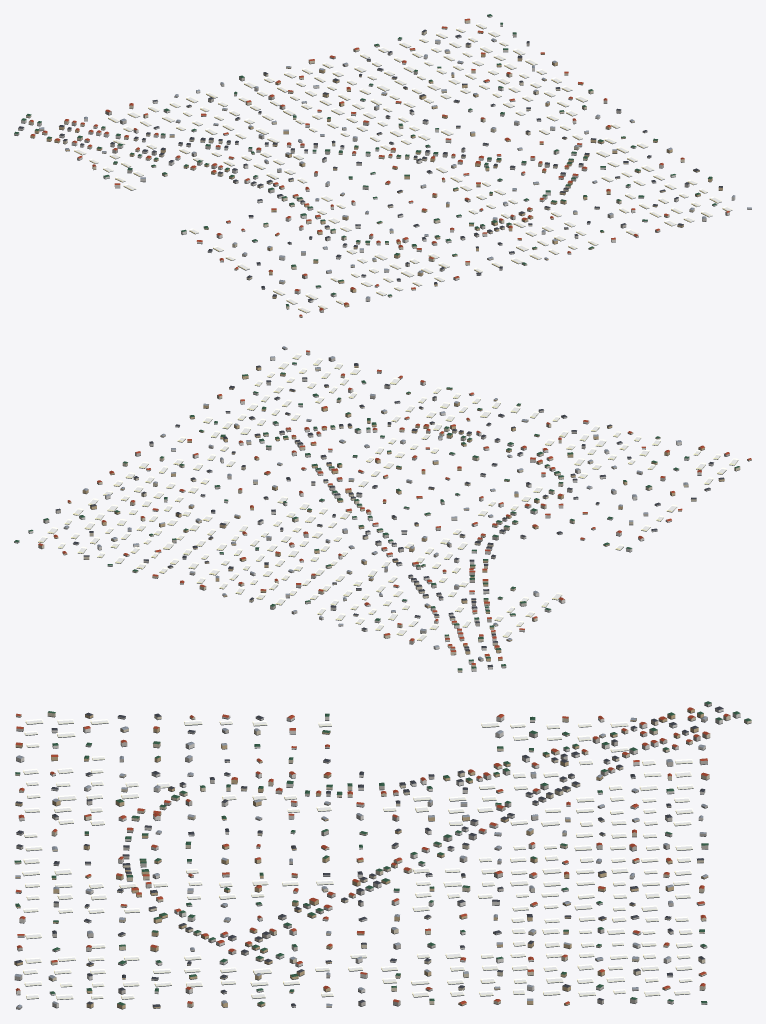
File: buildings_T_E07_S04.glb
3 views of the same model, one above another, from view 1: azimuth 30°, elevation 25°; view 2: azimuth 150°, elevation 25°; view 3: azimuth 270°, elevation 25° (orthographic). The views are drawn at different scales.
Visible parts, largest first — view 1: T_E07_S04_roofs_agri_greenhouse_arch, T_E07_S04_slope_seating_foundations, T_E07_S04_walls_wall_modern_warm_white, T_E07_S04_walls_wall_dalat_cream_stucco, T_E07_S04_walls_wall_french_ochre_villa, T_E07_S04_walls_wall_pastel_sand_gray, T_E07_S04_roofs_roof_terracotta_gable, T_E07_S04_roofs_roof_slate_French_villa_hip, T_E07_S04_roofs_roof_pine_green_hip, T_E07_S04_roofs_roof_zinc_silver_gable; view 2: T_E07_S04_slope_seating_foundations, T_E07_S04_roofs_agri_greenhouse_arch, T_E07_S04_walls_wall_modern_warm_white, T_E07_S04_walls_wall_dalat_cream_stucco, T_E07_S04_walls_wall_french_ochre_villa, T_E07_S04_roofs_roof_terracotta_gable, T_E07_S04_walls_wall_pastel_sand_gray, T_E07_S04_roofs_roof_slate_French_villa_hip, T_E07_S04_roofs_roof_pine_green_hip, T_E07_S04_roofs_roof_zinc_silver_gable; view 3: T_E07_S04_roofs_agri_greenhouse_arch, T_E07_S04_slope_seating_foundations, T_E07_S04_walls_wall_modern_warm_white, T_E07_S04_walls_wall_dalat_cream_stucco, T_E07_S04_walls_wall_french_ochre_villa, T_E07_S04_walls_wall_pastel_sand_gray, T_E07_S04_roofs_roof_terracotta_gable, T_E07_S04_roofs_roof_slate_French_villa_hip, T_E07_S04_roofs_roof_pine_green_hip, T_E07_S04_roofs_roof_zinc_silver_gable.
Boxes of the visible parts, <box> form: T_E07_S04_roofs_agri_greenhouse_arch: <box>74,23,732,312</box>; T_E07_S04_slope_seating_foundations: <box>14,16,751,317</box>; T_E07_S04_walls_wall_modern_warm_white: <box>18,15,735,302</box>; T_E07_S04_walls_wall_dalat_cream_stucco: <box>26,19,694,317</box>; T_E07_S04_walls_wall_french_ochre_villa: <box>30,31,722,306</box>; T_E07_S04_walls_wall_pastel_sand_gray: <box>14,34,751,312</box>; T_E07_S04_roofs_roof_terracotta_gable: <box>29,18,729,316</box>; T_E07_S04_roofs_roof_slate_French_villa_hip: <box>18,29,722,300</box>; T_E07_S04_roofs_roof_pine_green_hip: <box>14,14,716,306</box>; T_E07_S04_roofs_roof_zinc_silver_gable: <box>39,38,751,298</box>; T_E07_S04_slope_seating_foundations: <box>14,348,751,672</box>; T_E07_S04_roofs_agri_greenhouse_arch: <box>38,353,738,640</box>; T_E07_S04_walls_wall_modern_warm_white: <box>14,351,713,671</box>; T_E07_S04_walls_wall_dalat_cream_stucco: <box>38,367,751,672</box>; T_E07_S04_walls_wall_french_ochre_villa: <box>53,365,724,661</box>; T_E07_S04_roofs_roof_terracotta_gable: <box>38,350,751,664</box>; T_E07_S04_walls_wall_pastel_sand_gray: <box>43,347,729,667</box>; T_E07_S04_roofs_roof_slate_French_villa_hip: <box>55,363,724,667</box>; T_E07_S04_roofs_roof_pine_green_hip: <box>14,362,739,670</box>; T_E07_S04_roofs_roof_zinc_silver_gable: <box>64,346,688,659</box>; T_E07_S04_roofs_agri_greenhouse_arch: <box>22,718,693,999</box>; T_E07_S04_slope_seating_foundations: <box>14,705,751,1009</box>; T_E07_S04_walls_wall_modern_warm_white: <box>16,708,740,1007</box>; T_E07_S04_walls_wall_dalat_cream_stucco: <box>14,712,751,1007</box>; T_E07_S04_walls_wall_french_ochre_villa: <box>14,709,708,1008</box>; T_E07_S04_walls_wall_pastel_sand_gray: <box>14,703,711,1009</box>; T_E07_S04_roofs_roof_terracotta_gable: <box>15,707,730,1004</box>; T_E07_S04_roofs_roof_slate_French_villa_hip: <box>14,706,723,1007</box>; T_E07_S04_roofs_roof_pine_green_hip: <box>14,701,751,1005</box>; T_E07_S04_roofs_roof_zinc_silver_gable: <box>14,716,708,1007</box>.
Size of the model in its own units: 1836 by 32.39 by 1859.
